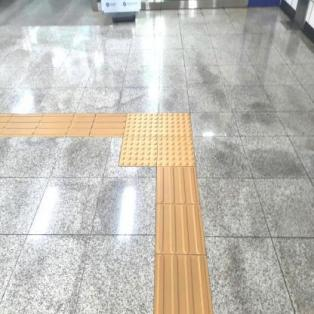Podoctatil: (106, 86, 208, 193), (155, 169, 210, 313), (0, 110, 125, 140)
